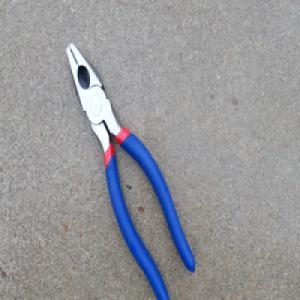Pliers: (65, 41, 195, 300)
